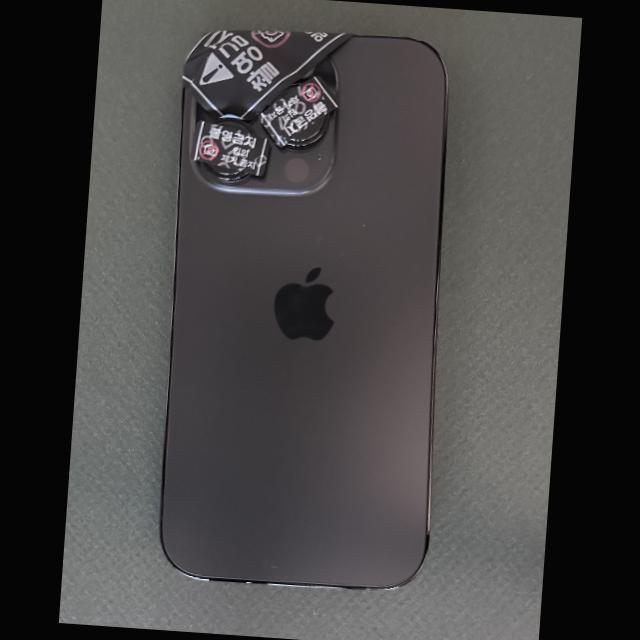lens: (289, 114, 330, 146), (201, 162, 250, 183)
phone: (160, 28, 446, 589)
sticker: (182, 30, 355, 120), (258, 76, 339, 147), (191, 120, 270, 176)
